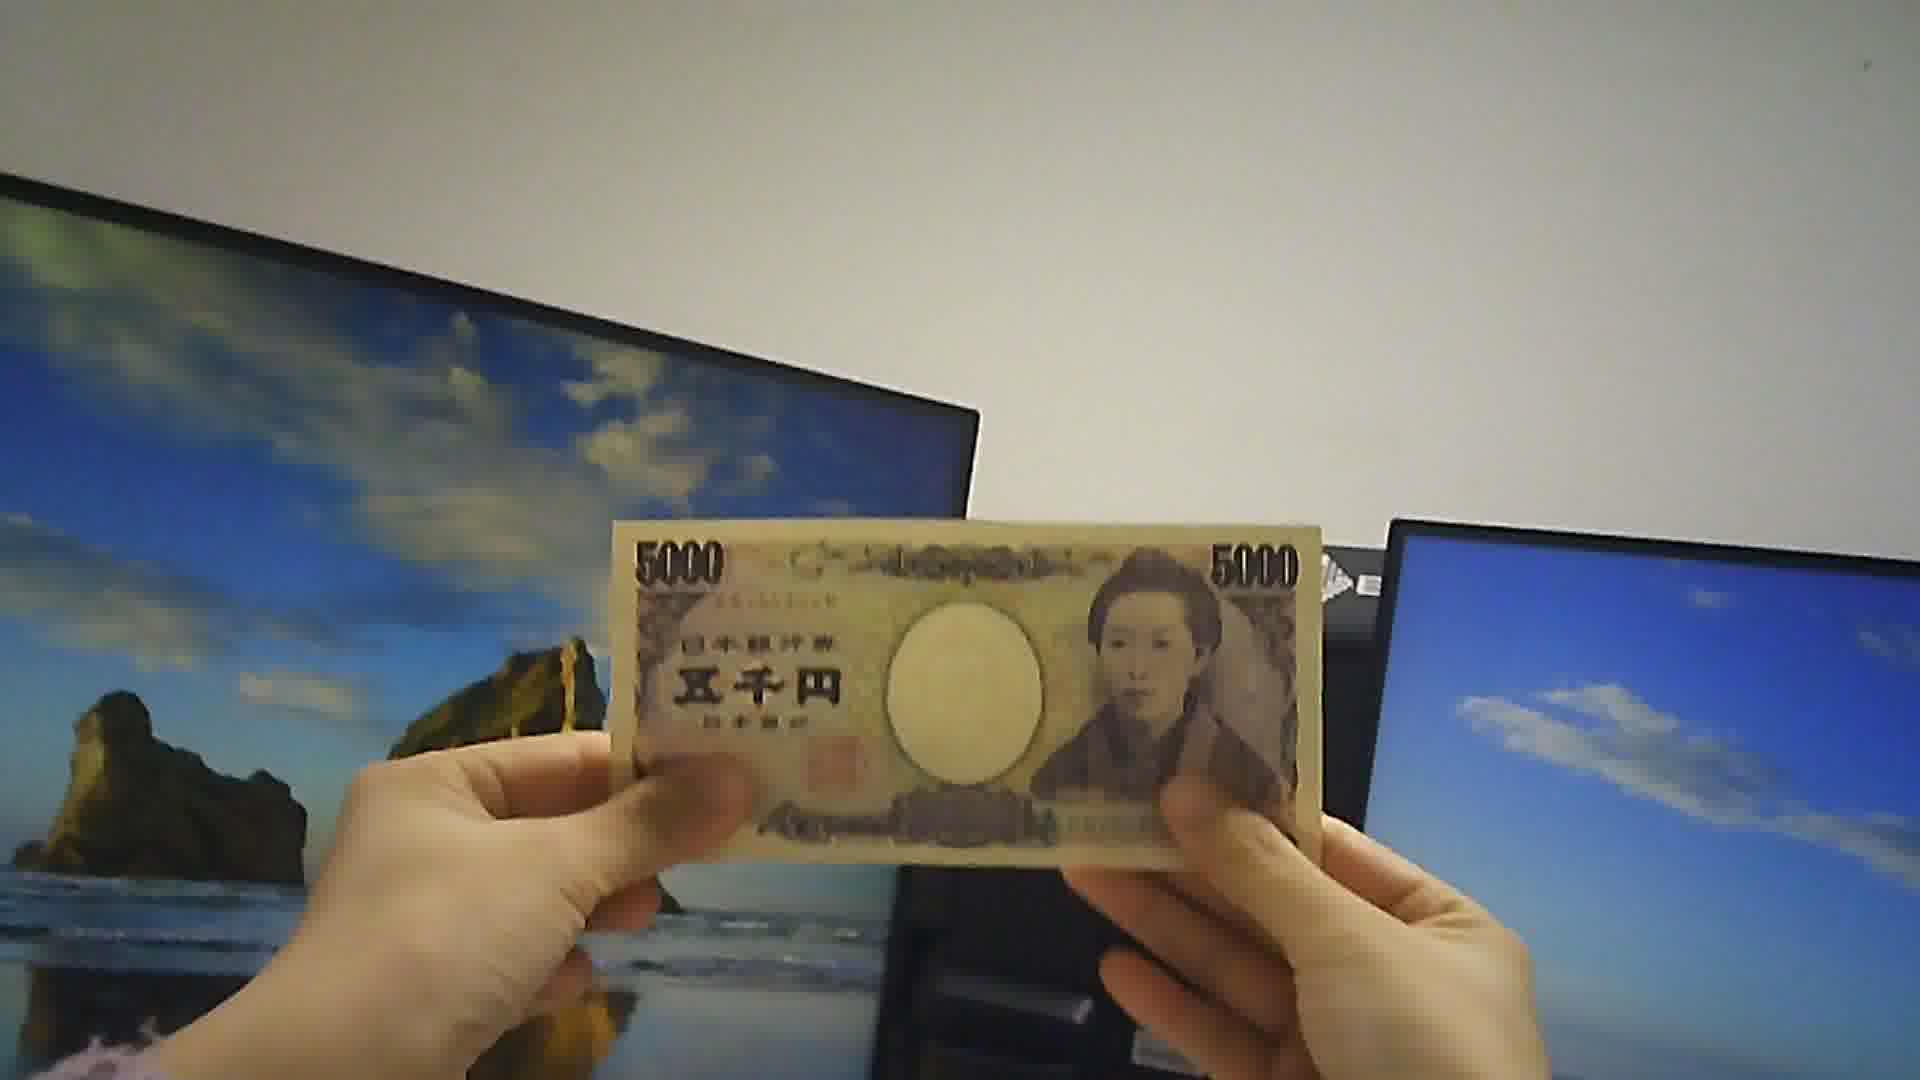5,000 Yen: (593, 487, 1333, 884)
